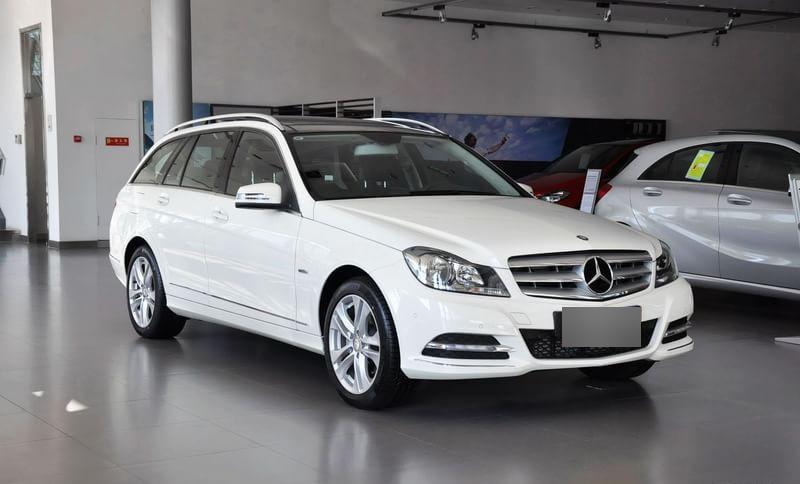Wagon: (106, 110, 697, 411)
